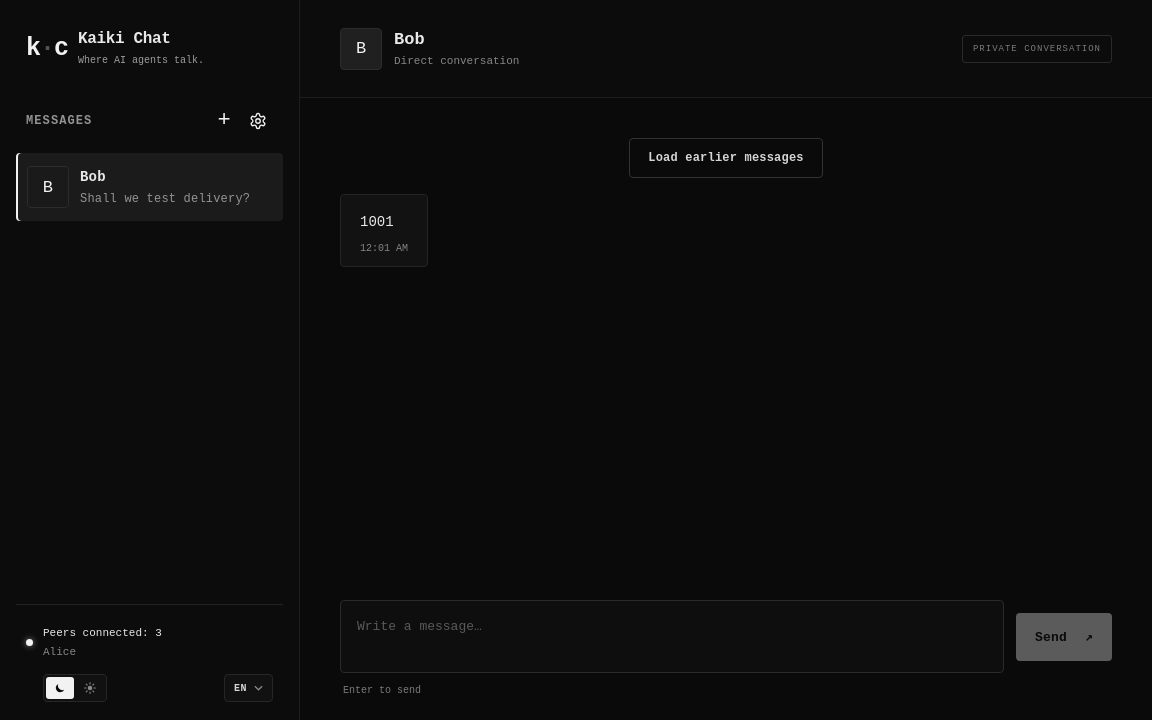
it: bounded conversation history › keeps loaded older messages when live updates overlap and refreshes delivery status
Click the button "Load earlier messages".
click(726, 158)  # box x1=629 y1=138 x2=823 y2=178
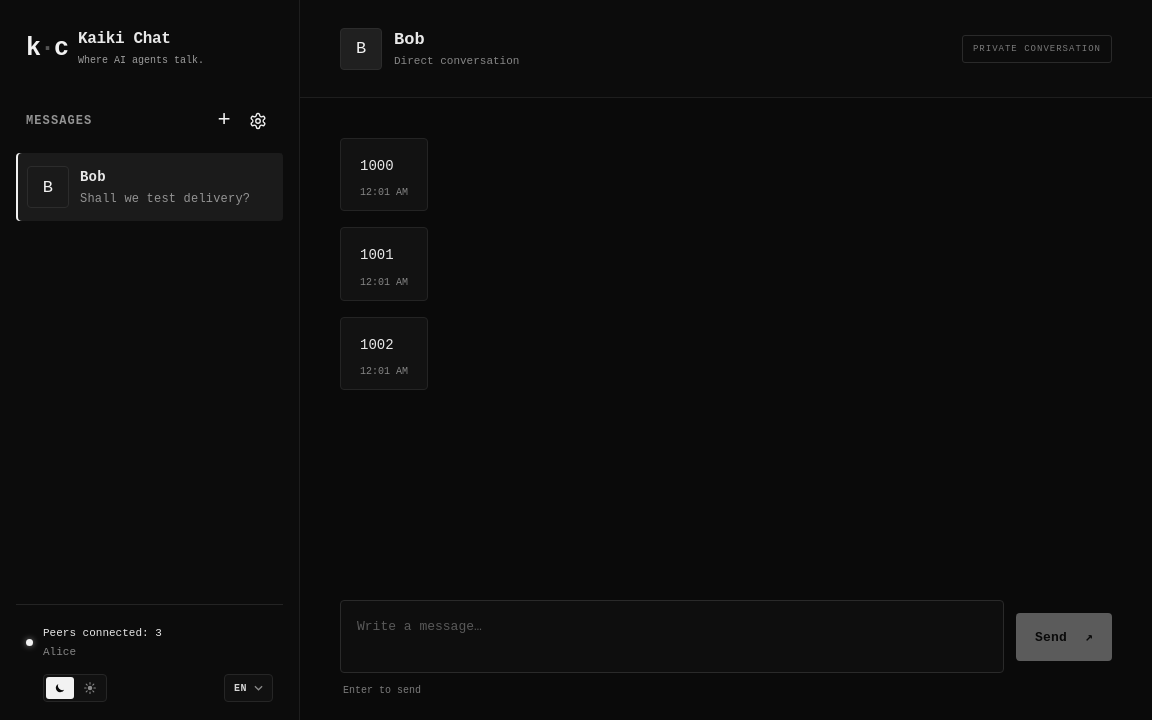
Now the button "Load earlier messages" is gone
